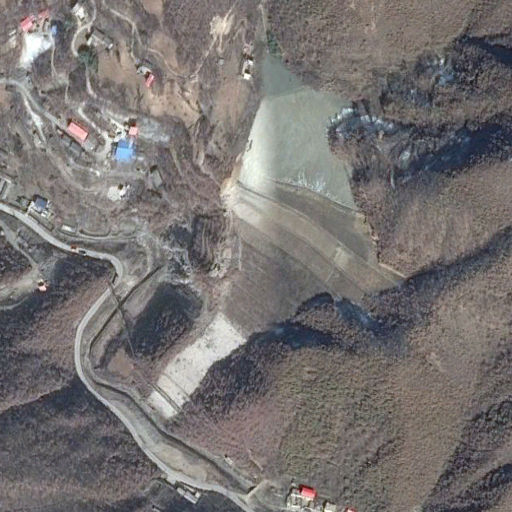tp: (221, 58, 404, 337)
